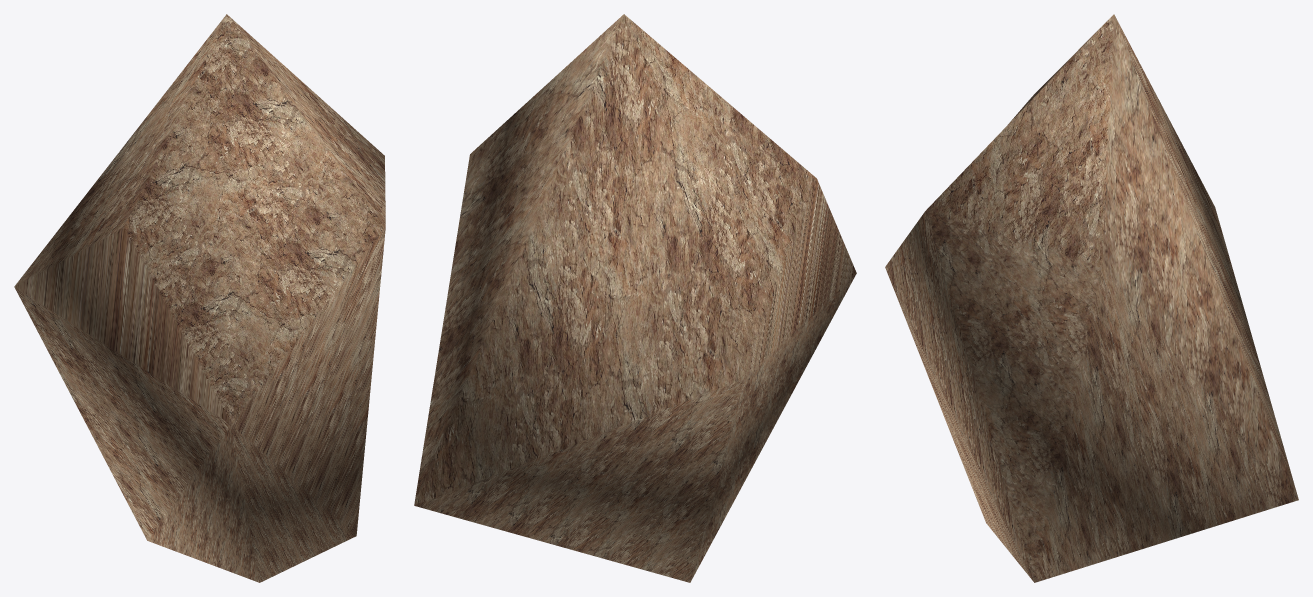
File: rock_tatt_boulder_tan_a1_l4.fbx
3 views of the same model, side by side, from view 1: azimuth 30°, elevation 25°; view 2: azimuth 150°, elevation 25°; view 3: azimuth 270°, elevation 25° (orthographic). The views are drawn at different scales.
Visible parts, largest first — view 1: mesh_node; view 2: mesh_node; view 3: mesh_node.
Part boxes in pixels (bbox=[...]): mesh_node: bbox=[14, 14, 385, 582]; mesh_node: bbox=[414, 14, 856, 582]; mesh_node: bbox=[885, 14, 1298, 582].
Bounding box in the file's own units: 4.26 × 6.67 × 4.78.
